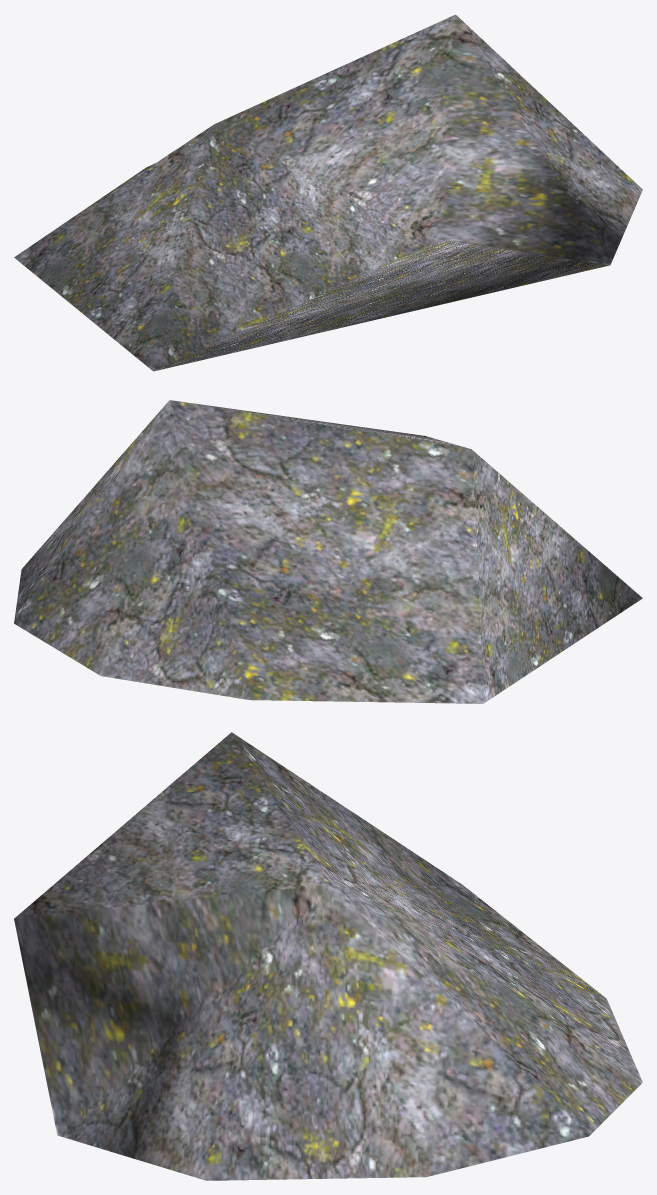
Rendered from rock_weatheredmossy_large_l2.fbx.
3 renders of one model, top to bottom at view 1: azimuth 30°, elevation 25°; view 2: azimuth 150°, elevation 25°; view 3: azimuth 270°, elevation 25°, orthographic. The views are drawn at different scales.
Visible parts, largest first — view 1: mesh_node; view 2: mesh_node; view 3: mesh_node.
Part boxes in pixels (bbox=[...]): mesh_node: bbox=[14, 14, 642, 371]; mesh_node: bbox=[14, 400, 642, 703]; mesh_node: bbox=[14, 732, 642, 1180].
Size of the model in its own units: 0.857 by 0.2855 by 0.7018.
1 material, 1 textured.
